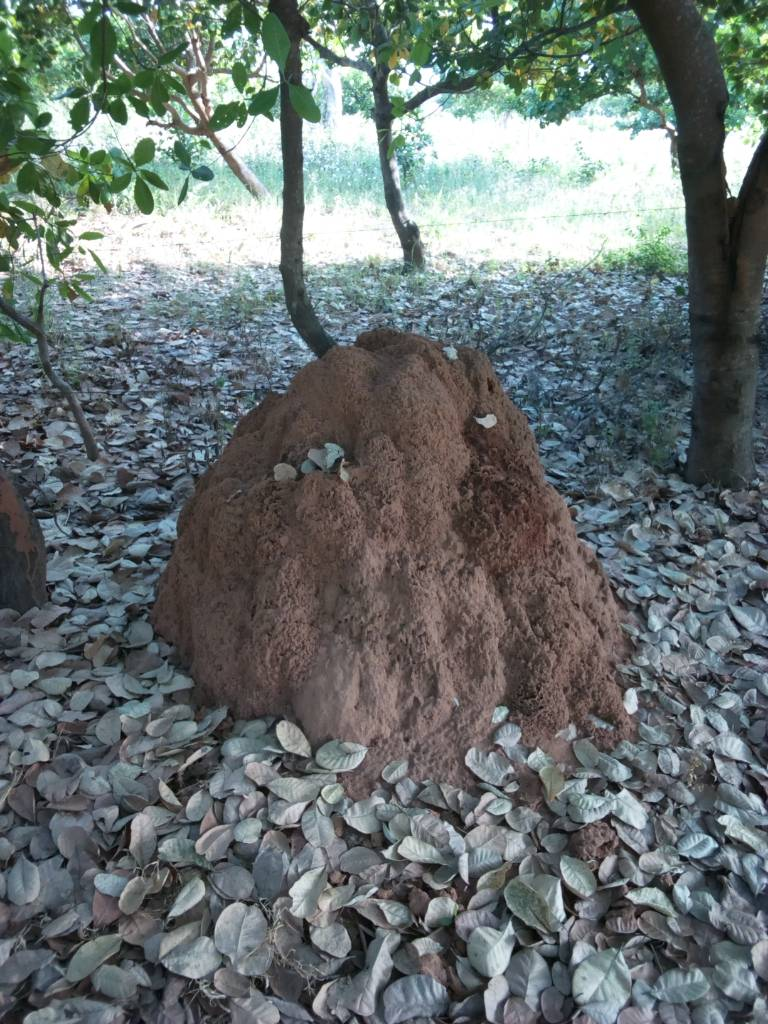Termites: (172, 341, 611, 722)
